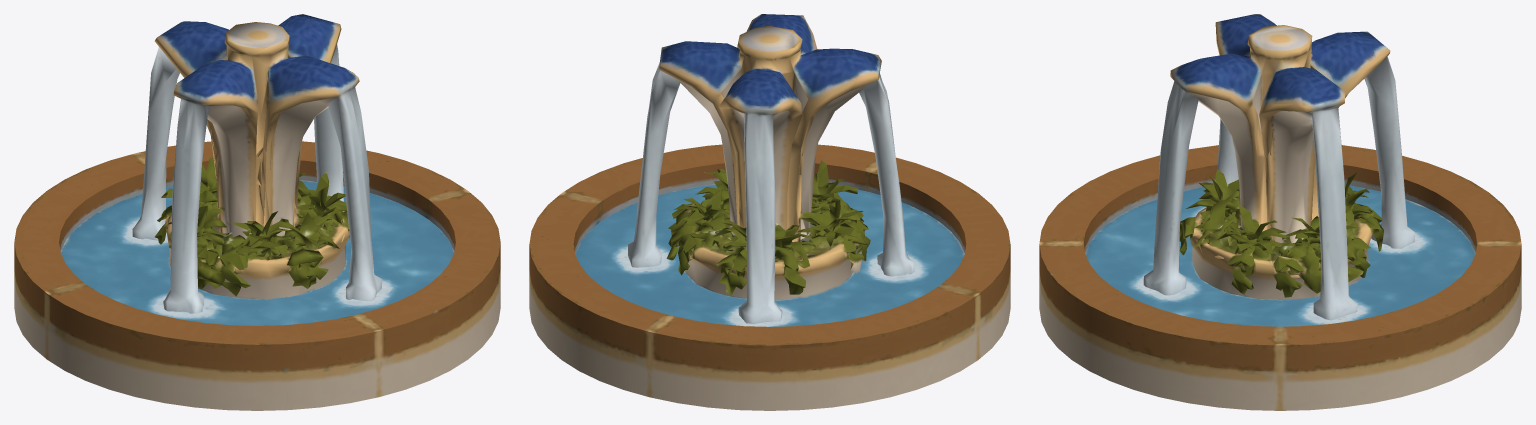
Rendered from fountain.glb.
3 views of the same model, side by side, from view 1: azimuth 30°, elevation 25°; view 2: azimuth 150°, elevation 25°; view 3: azimuth 270°, elevation 25° (orthographic).
Parts seen in each view (by area): view 1: body, water; view 2: body, water; view 3: body, water.
Boxes of the visible parts, x1,y1,x2,y2 form: body: (14,14,500,410); water: (60,44,454,325); body: (529,14,1010,410); water: (575,62,964,326); body: (1039,14,1521,410); water: (1085,56,1475,326).
Size of the model in its own units: 3 by 1.86 by 3.
2 materials, 2 textured.
